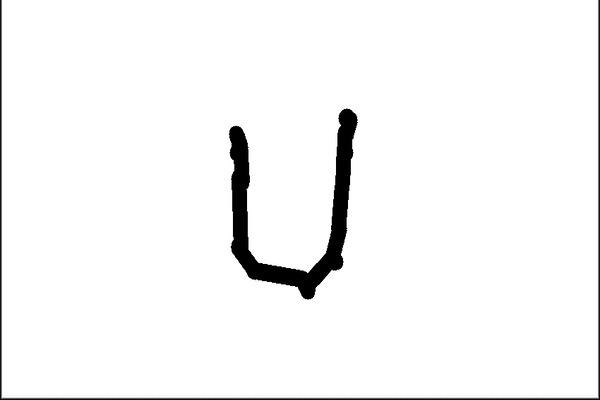U: (214, 96, 365, 299)
